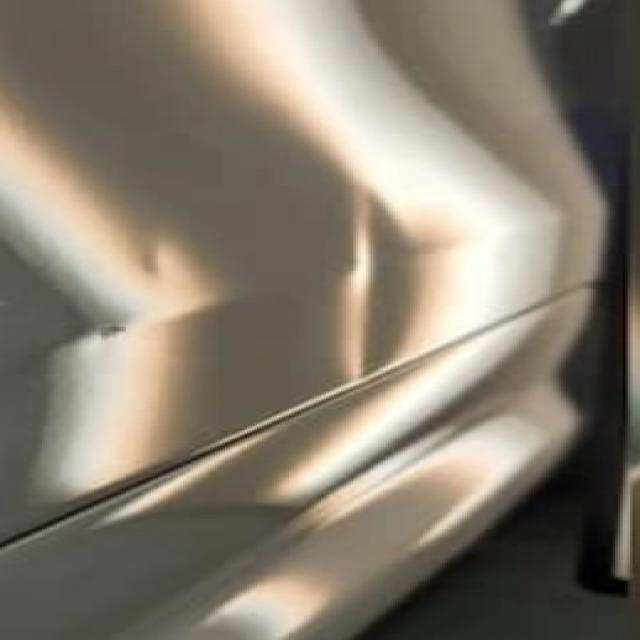dents: (335, 190, 433, 398), (112, 196, 148, 230)
